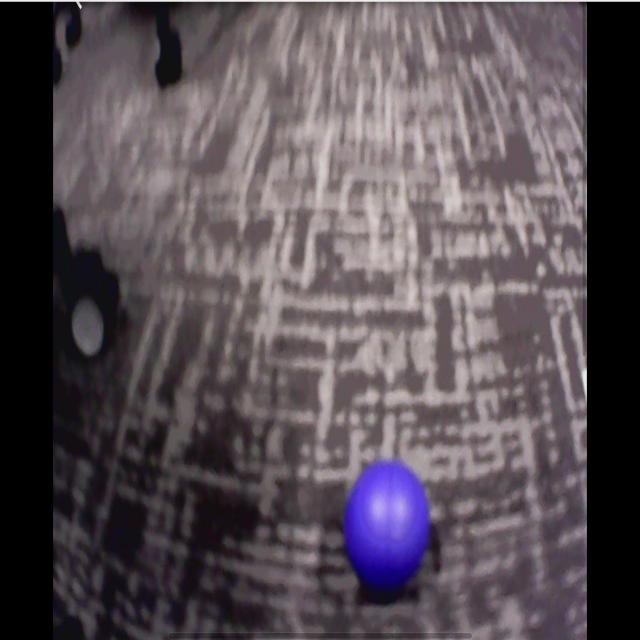ball: (343, 462, 430, 590)
